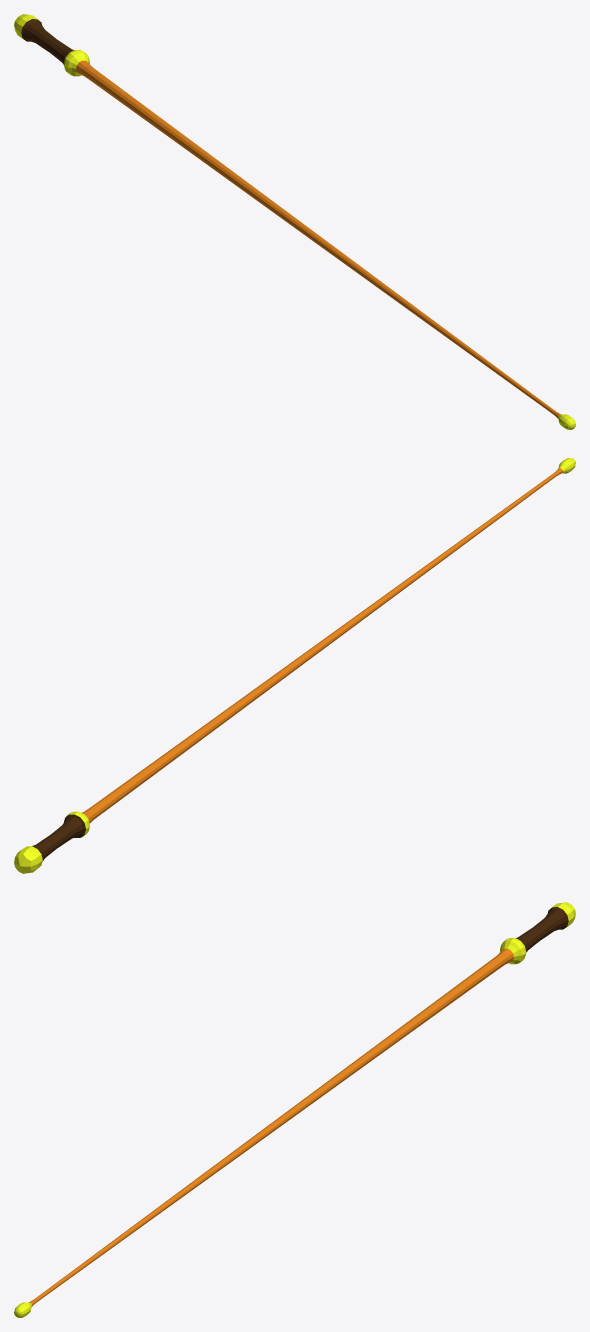
File: Chicote-novo.fbx
3 renders of one model, top to bottom at view 1: azimuth 30°, elevation 25°; view 2: azimuth 150°, elevation 25°; view 3: azimuth 330°, elevation 25°, orthographic.
Visible parts, largest first — view 1: Chicote; view 2: Chicote; view 3: Chicote.
Boxes of the visible parts, bbox=[...] form: Chicote: bbox=[14, 14, 575, 429]; Chicote: bbox=[14, 458, 575, 873]; Chicote: bbox=[14, 902, 575, 1317].
Bounding box in the file's own units: 60.59 × 60.84 × 2430.
